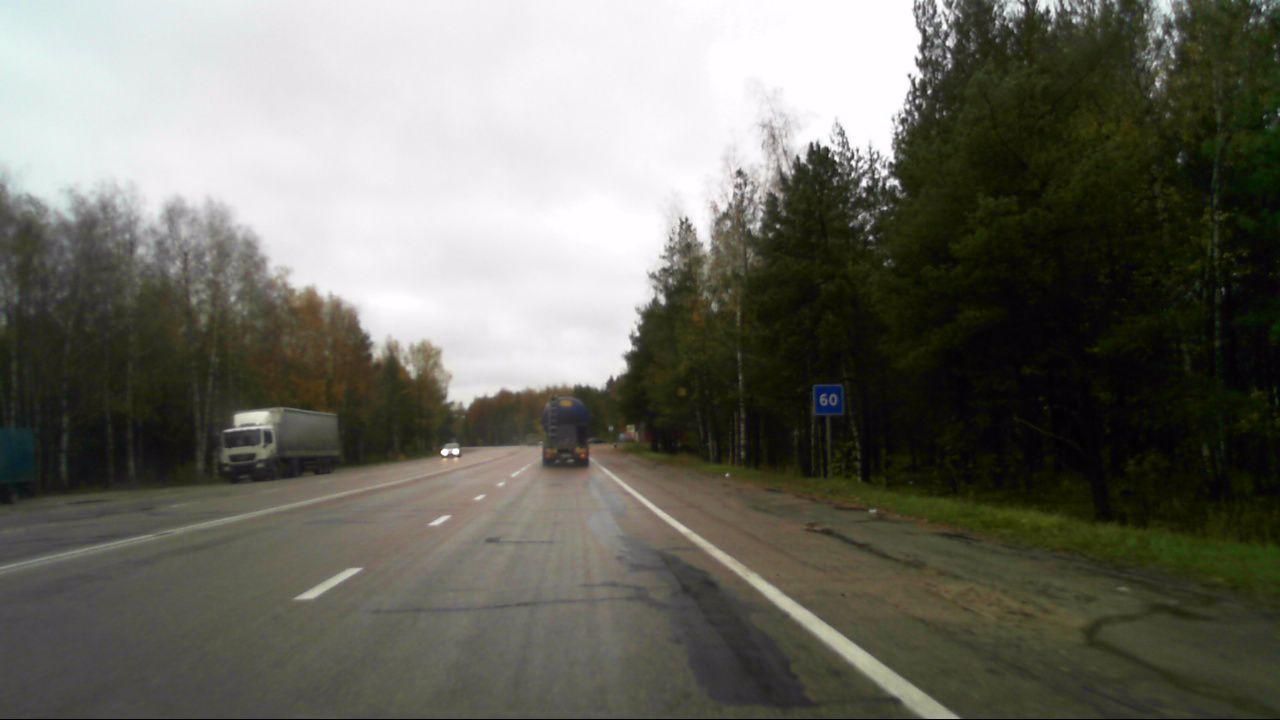6_2: (813, 384, 847, 416)
